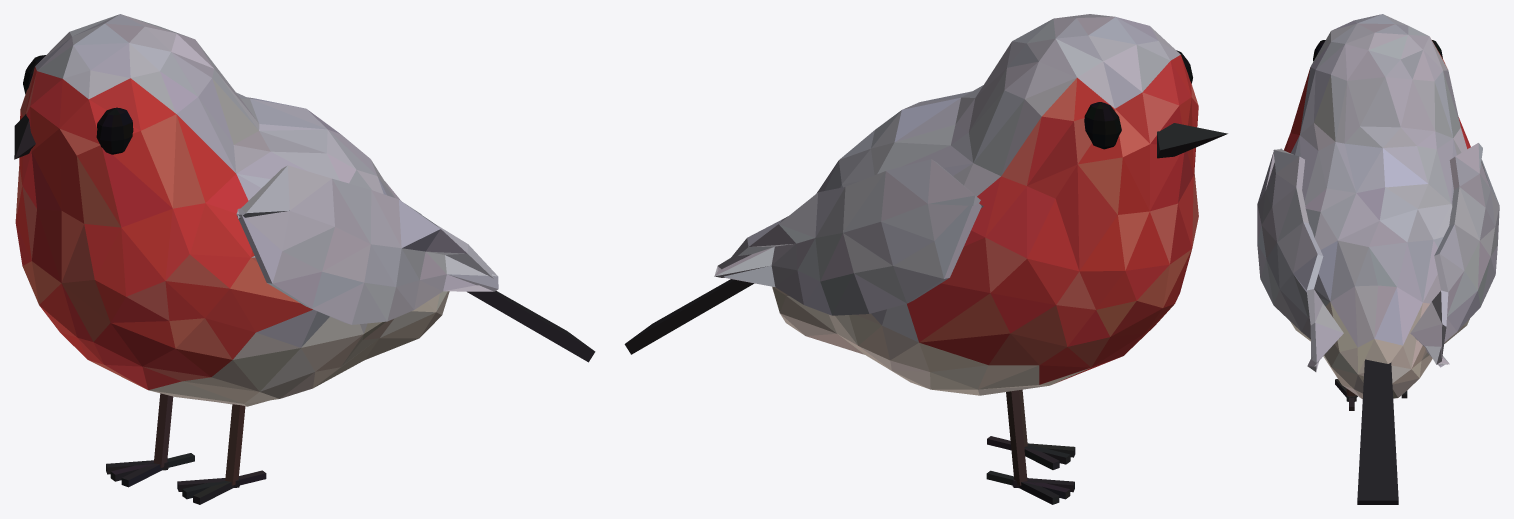
Rendered from starling.glb.
3 views of the same model, side by side, from view 1: azimuth 30°, elevation 25°; view 2: azimuth 150°, elevation 25°; view 3: azimuth 270°, elevation 25° (orthographic). The views are drawn at different scales.
Parts seen in each view (by area): view 1: Robin; view 2: Robin; view 3: Robin.
Boxes of the visible parts, left/top/right/bottom form: Robin: left=14, top=14, right=595, bottom=504; Robin: left=624, top=14, right=1227, bottom=504; Robin: left=1257, top=14, right=1499, bottom=504.
Bounding box in the file's own units: 2.61 × 2 × 1.29.
